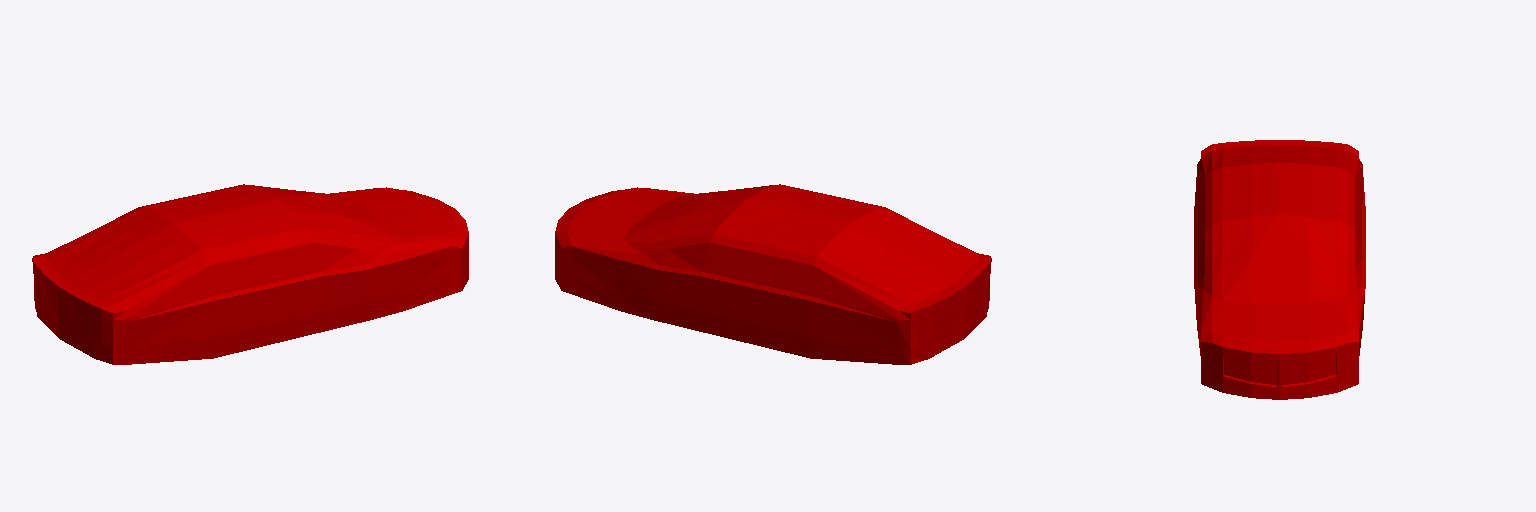
The model's file is m_car.obj.
3 views of the same model, side by side, from view 1: azimuth 30°, elevation 25°; view 2: azimuth 150°, elevation 25°; view 3: azimuth 270°, elevation 25° (orthographic).
Parts seen in each view (by area): view 1: Cube; view 2: Cube; view 3: Cube.
Boxes of the visible parts, box(x1,y1,x2,y2) form: Cube: box(32, 184, 468, 364); Cube: box(555, 184, 991, 364); Cube: box(1194, 140, 1365, 399).
Bounding box in the file's own units: 5.86 × 1.49 × 2.18.